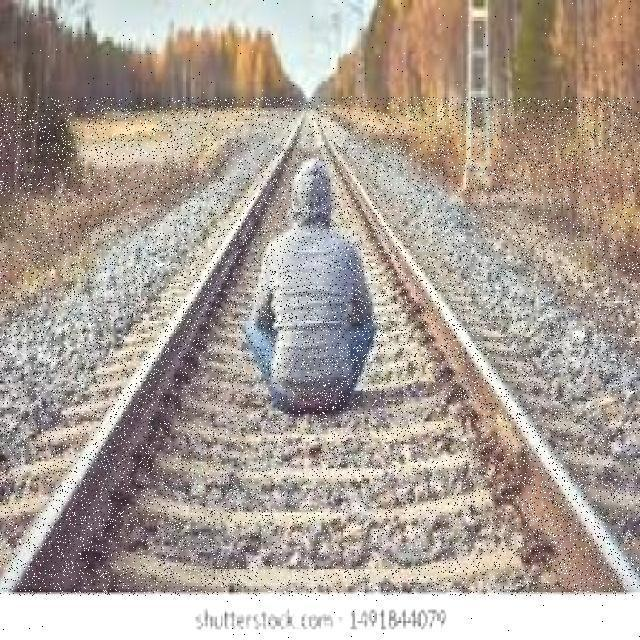danger: (258, 168, 356, 426)
rail: (0, 98, 640, 596)
